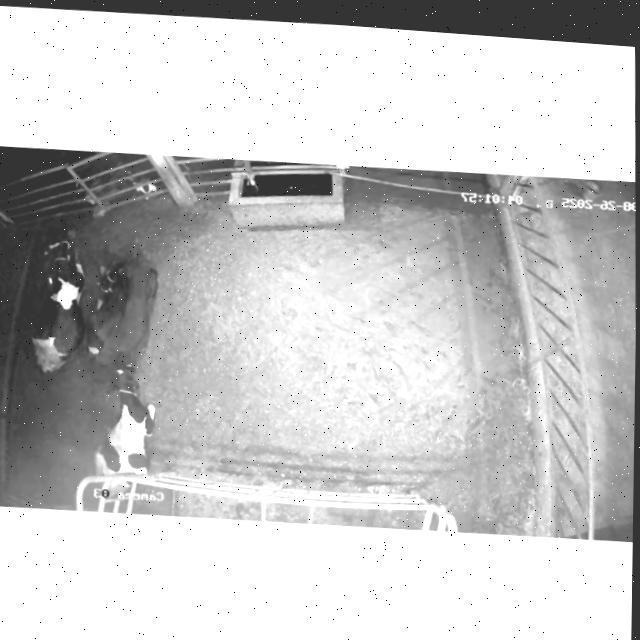lay: (66, 356, 177, 484), (78, 248, 170, 382), (15, 226, 89, 382)
